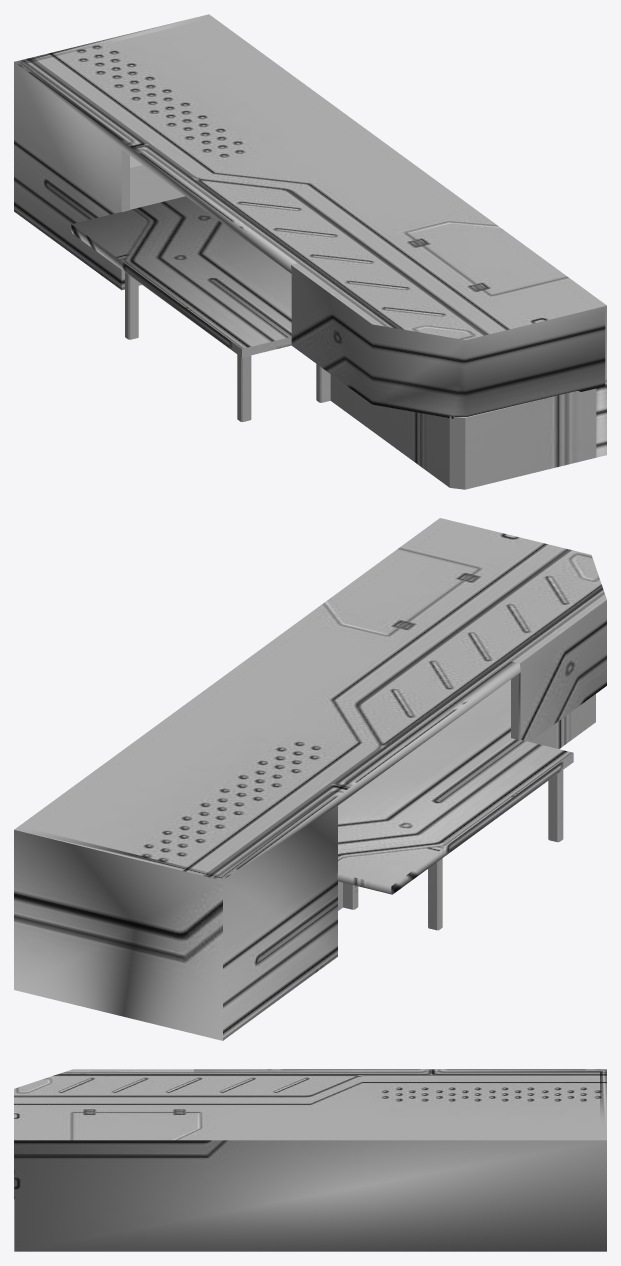
File: miningoutpost.fbx
3 views of the same model, one above another, from view 1: azimuth 30°, elevation 25°; view 2: azimuth 150°, elevation 25°; view 3: azimuth 270°, elevation 25° (orthographic). The views are drawn at different scales.
Visible parts, largest first — view 1: Cube (6); view 2: Cube (6); view 3: Cube (6).
Part boxes in pixels (x1,y1,x2,y2): Cube (6): (14, 14, 606, 489); Cube (6): (14, 518, 606, 1040); Cube (6): (14, 1069, 606, 1251).
Bounding box in the file's own units: 2957 × 1725 × 8317.
